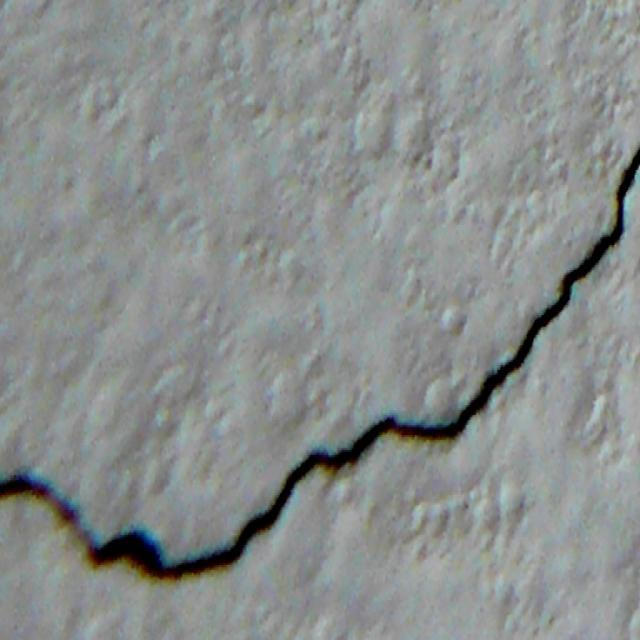Diagonal: (441, 161, 640, 459), (253, 416, 425, 542), (0, 465, 90, 577)
Transverse: (94, 513, 255, 596)
